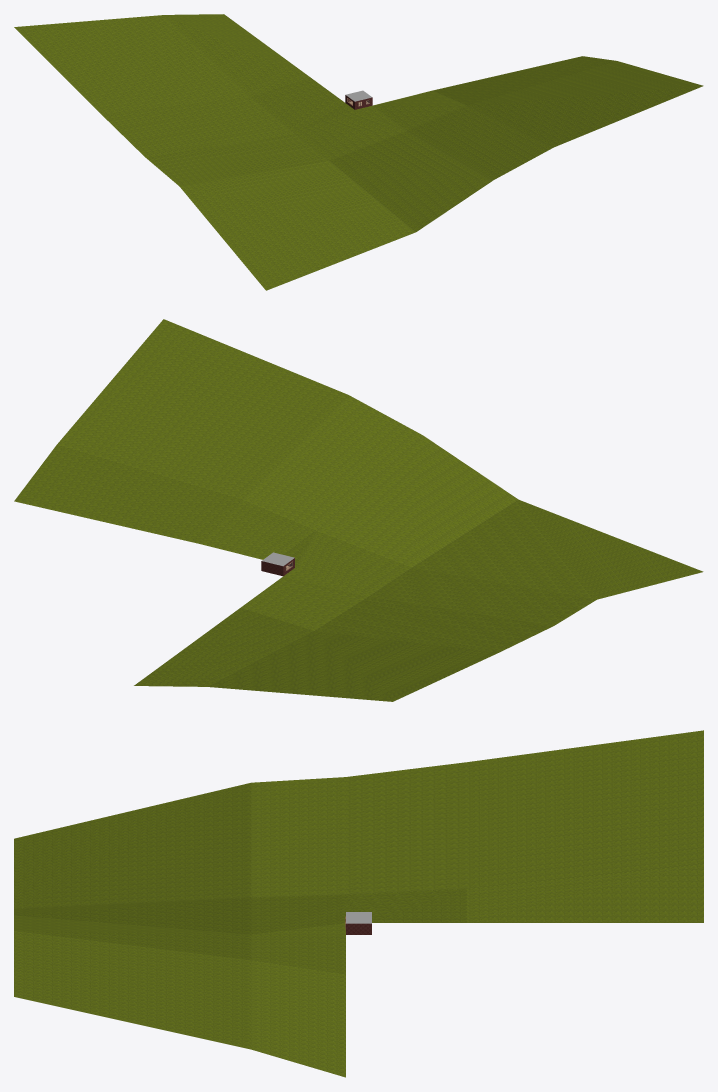
3 views of the same model, one above another, from view 1: azimuth 30°, elevation 25°; view 2: azimuth 150°, elevation 25°; view 3: azimuth 270°, elevation 25° (orthographic). The views are drawn at different scales.
Parts seen in each view (by area): view 1: room_Cube; view 2: room_Cube; view 3: room_Cube.
Boxes of the visible parts, x1,y1,x2,y2 form: room_Cube: [14, 14, 703, 290]; room_Cube: [14, 319, 703, 701]; room_Cube: [14, 730, 703, 1077].
Bounding box in the file's own units: 146 × 31.23 × 145.
